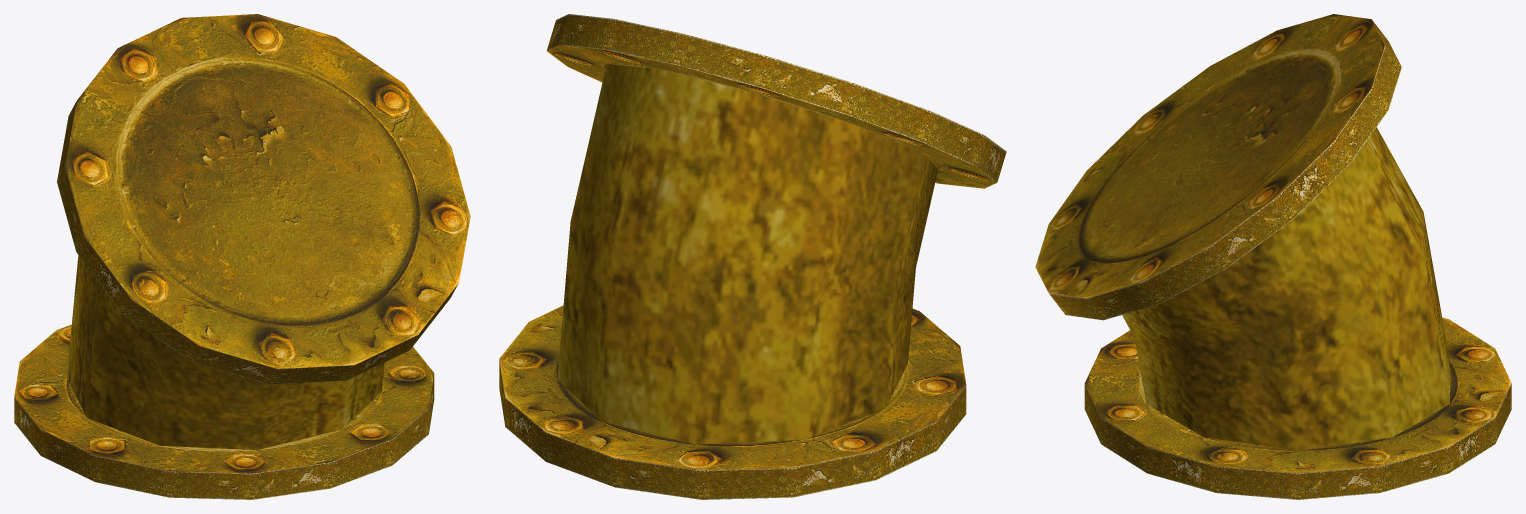
File: elbow_35_yellow.DAE
3 renders of one model, left to right at view 1: azimuth 30°, elevation 25°; view 2: azimuth 150°, elevation 25°; view 3: azimuth 270°, elevation 25°, orthographic. The views are drawn at different scales.
Parts seen in each view (by area): view 1: Object530, Torus037; view 2: Torus037, Object530; view 3: Object530, Torus037.
Boxes of the visible parts, bbox=[...] form: Object530: bbox=[14, 14, 470, 499]; Torus037: bbox=[66, 255, 384, 449]; Torus037: bbox=[557, 64, 937, 444]; Object530: bbox=[499, 14, 1006, 499]; Object530: bbox=[1035, 14, 1511, 499]; Torus037: bbox=[1122, 127, 1449, 450].
Bounding box in the file's own units: 0.6566 × 0.7326 × 0.6188.
